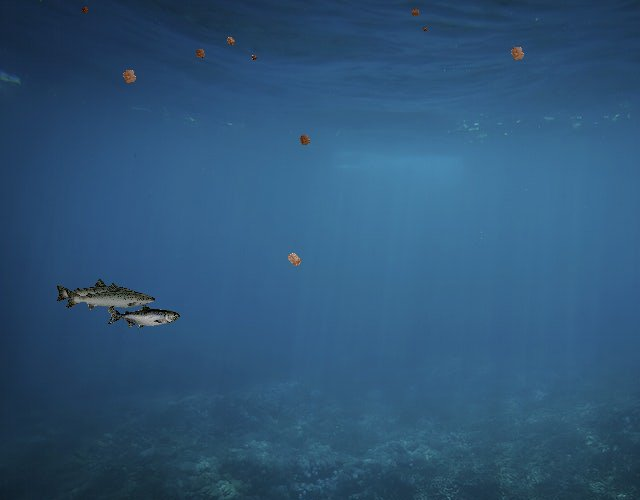Fish: (64, 282, 158, 316), (54, 277, 140, 308), (107, 304, 180, 330)
Pellet: (280, 245, 308, 273), (115, 63, 143, 91), (294, 129, 316, 151), (222, 32, 240, 50), (248, 51, 260, 63)
